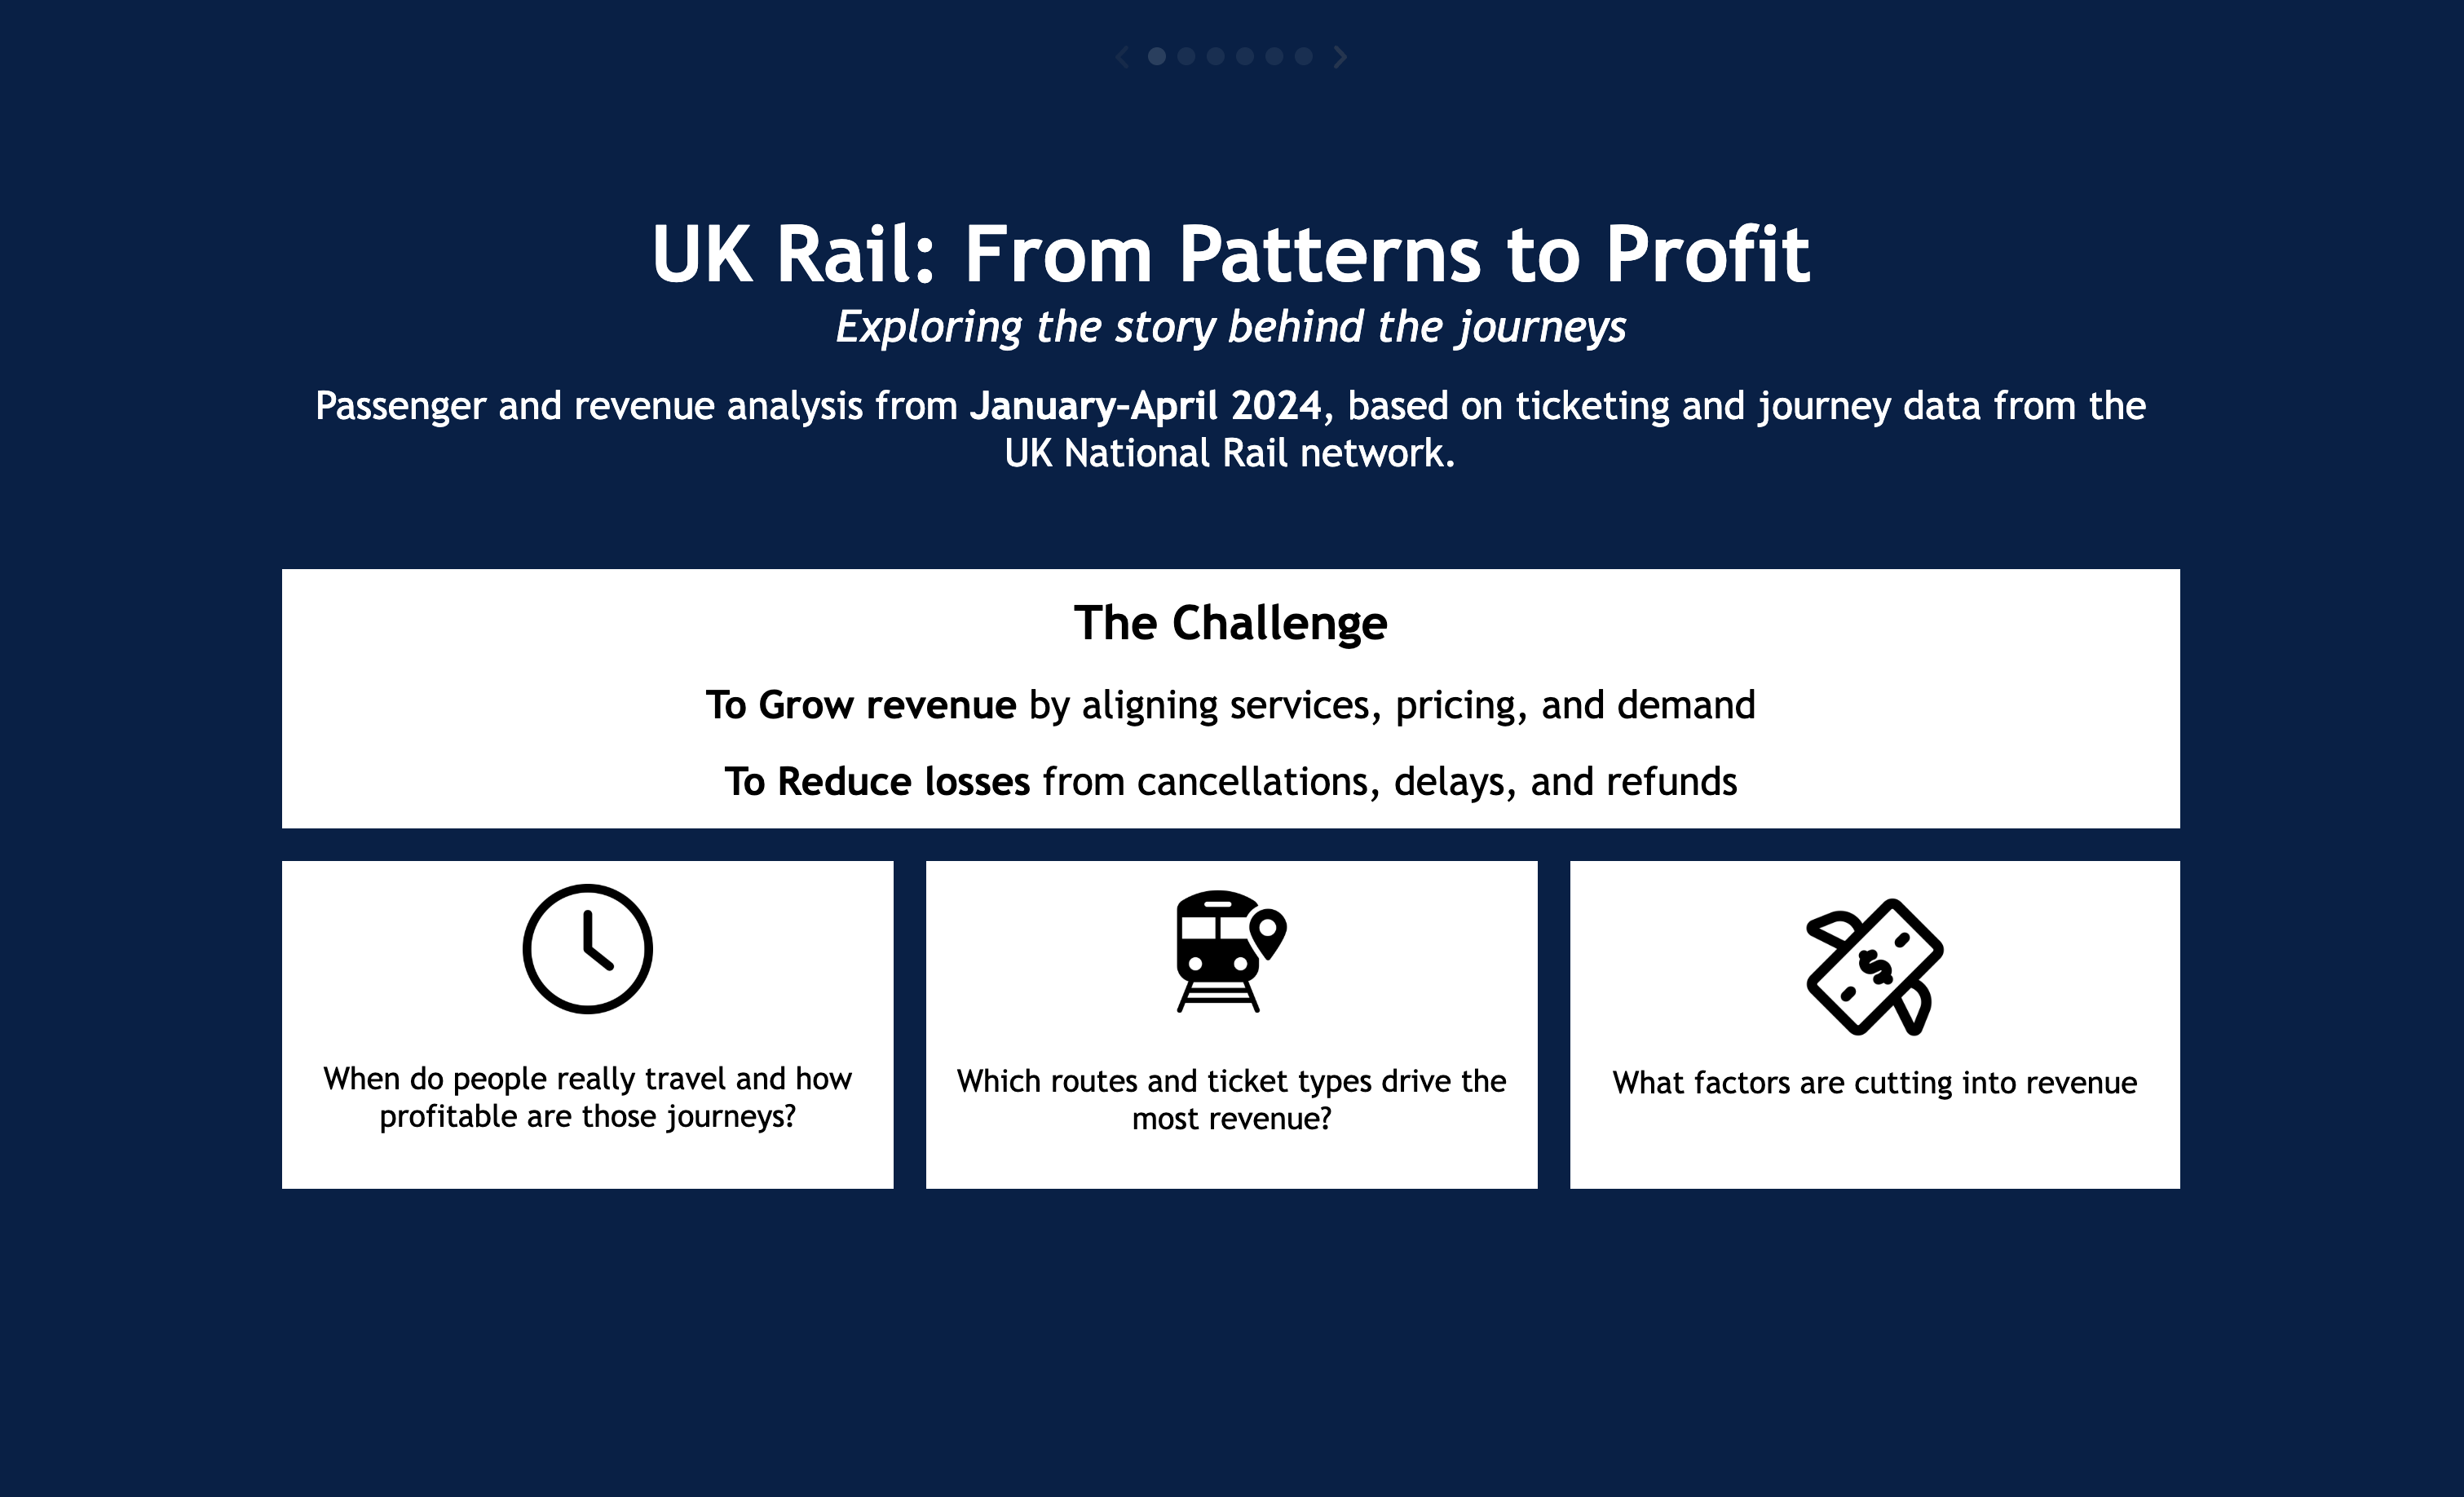

The dashboard page shown, as its layout file describes it:
{"tool":"tableau","page":{"name":"Dashboard 5","canvas":[1200,700],"ordinal":4},"visuals":[{"type":"text","box":[8,8,1184,167]},{"type":"image","param":"/Users/yusufbudullah/Downloads/time.png","box":[28,195,256,62]},{"type":"image","param":"/Users/yusufbudullah/Downloads/train-station.png","box":[324,195,256,66]},{"type":"image","param":"/Users/yusufbudullah/Downloads/ticket.png","box":[620,195,256,67]},{"type":"image","param":"/Users/yusufbudullah/Downloads/flying-money.png","box":[916,195,256,66]},{"type":"text","box":[28,257,256,276]},{"type":"text","box":[324,261,256,272]},{"type":"text","box":[916,261,256,272]},{"type":"text","box":[620,262,256,271]},{"type":"text","box":[8,553,1184,139]}]}

Visuals, with their boxes on the page's 1200x700 design canvas (x1, y1, x2, y2). These are canvas units, not pixel positions in the 2464x1497 screenshot, which may show the page scaled, cropped or inside an application window:
text: 8, 8, 1192, 175
image: 28, 195, 284, 257
image: 324, 195, 580, 261
image: 620, 195, 876, 262
image: 916, 195, 1172, 261
text: 28, 257, 284, 533
text: 324, 261, 580, 533
text: 916, 261, 1172, 533
text: 620, 262, 876, 533
text: 8, 553, 1192, 692
